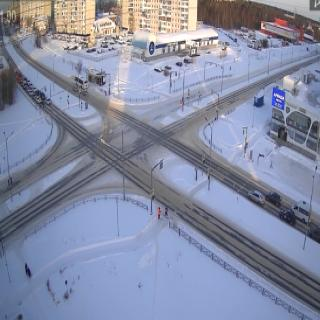large-vehicle: (291, 199, 311, 224), (74, 76, 89, 90), (16, 73, 22, 83)
small-vehicle: (278, 209, 296, 227), (264, 188, 282, 205), (247, 190, 265, 206), (306, 226, 320, 244), (35, 94, 41, 106), (175, 59, 183, 68), (22, 83, 28, 92), (44, 98, 51, 105), (183, 58, 191, 64), (39, 103, 46, 109), (28, 90, 34, 97), (166, 63, 172, 70), (40, 92, 44, 100), (32, 85, 36, 93), (27, 79, 31, 85)
